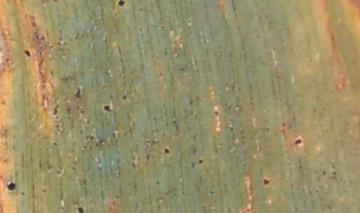tarspot: (6, 181, 16, 192), (262, 177, 271, 186), (24, 48, 32, 58), (102, 104, 112, 112), (74, 90, 82, 99), (117, 1, 126, 8), (77, 206, 85, 213), (163, 147, 171, 154), (294, 138, 302, 145), (121, 94, 128, 101), (198, 159, 203, 165)
